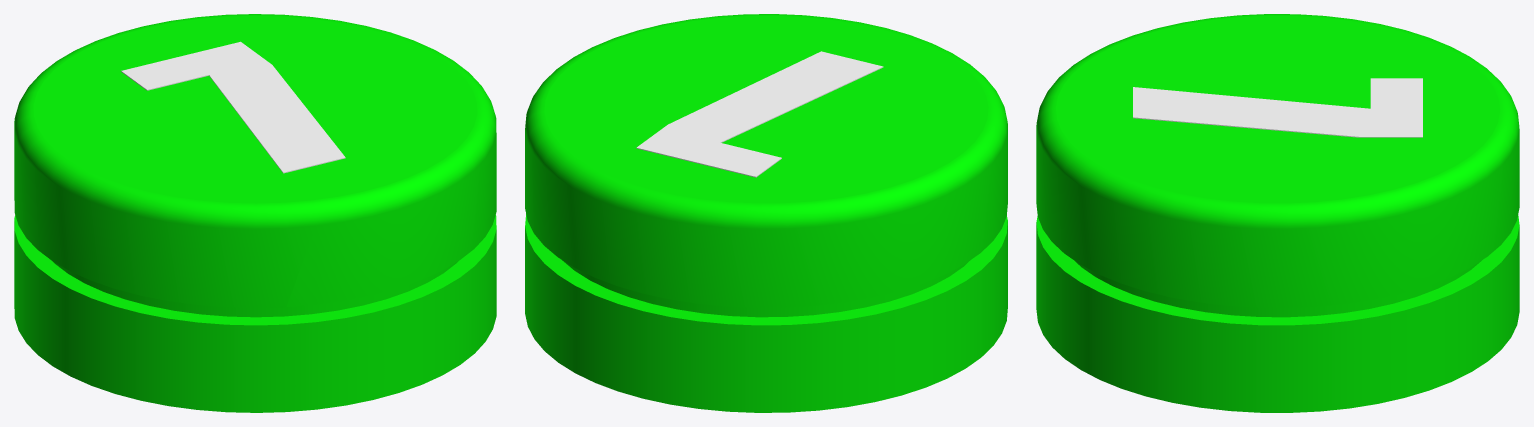
File: nubot_frame7_green.dae
3 renders of one model, left to right at view 1: azimuth 30°, elevation 25°; view 2: azimuth 150°, elevation 25°; view 3: azimuth 270°, elevation 25°, orthographic.
Parts seen in each view (by area): view 1: SketchUp (×3), instance_0; view 2: SketchUp (×3), instance_0; view 3: SketchUp (×3), instance_0.
Boxes of the visible parts, <box> form: SketchUp (×3): <box>14,14,496,412</box>; instance_0: <box>121,41,345,173</box>; SketchUp (×3): <box>525,14,1007,412</box>; instance_0: <box>636,51,883,177</box>; SketchUp (×3): <box>1036,14,1519,412</box>; instance_0: <box>1133,78,1422,137</box>.
Bounding box in the file's own units: 19.66 × 19.68 × 9.09.
